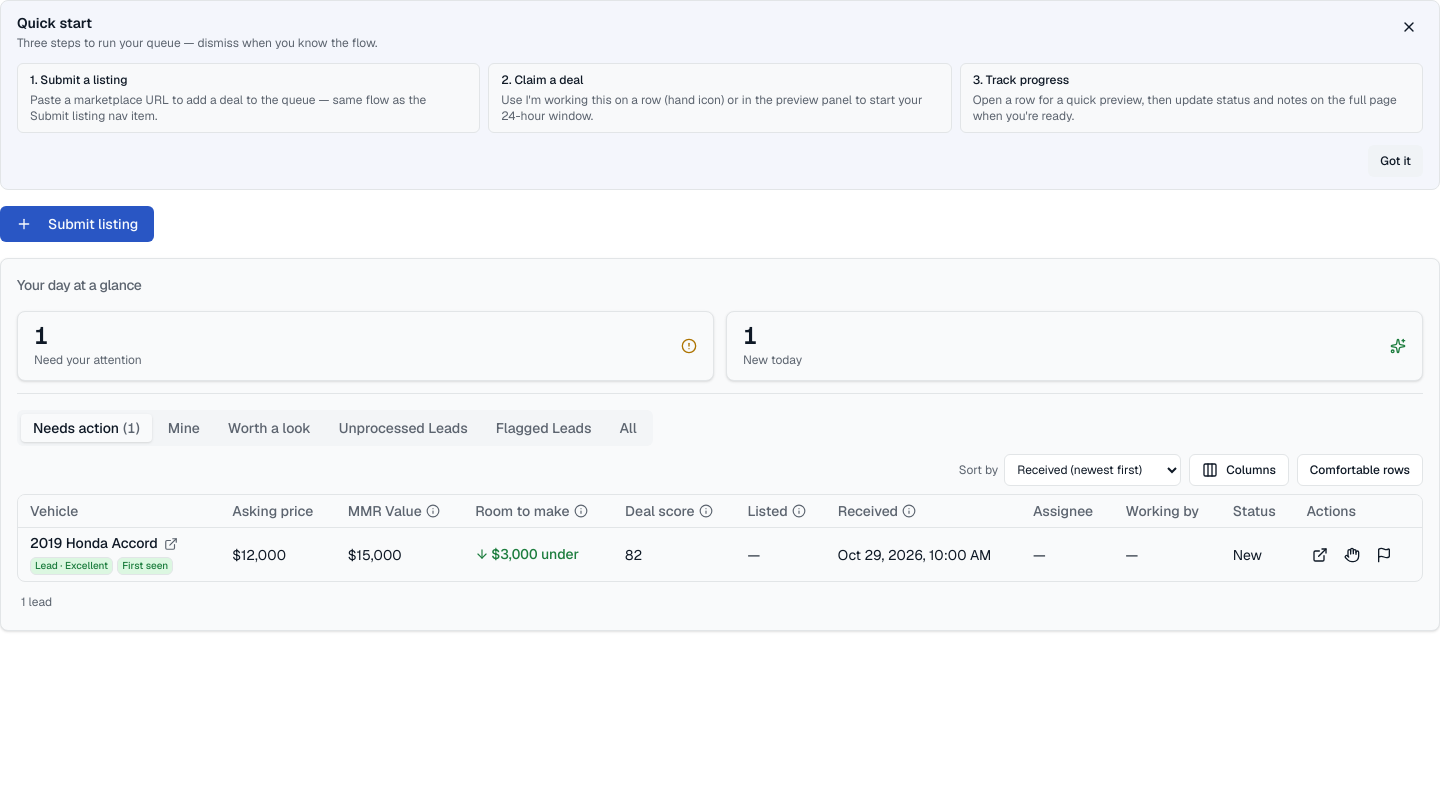
Test: OpportunitiesClientNew › removes a flagged lead from the queue without a full page refresh
Expected: the link "2019 Honda Accord" is shown, [30,534,158,553]
Click the button named "Flag bad lead": point(1384, 555) [1370,541,1398,569]
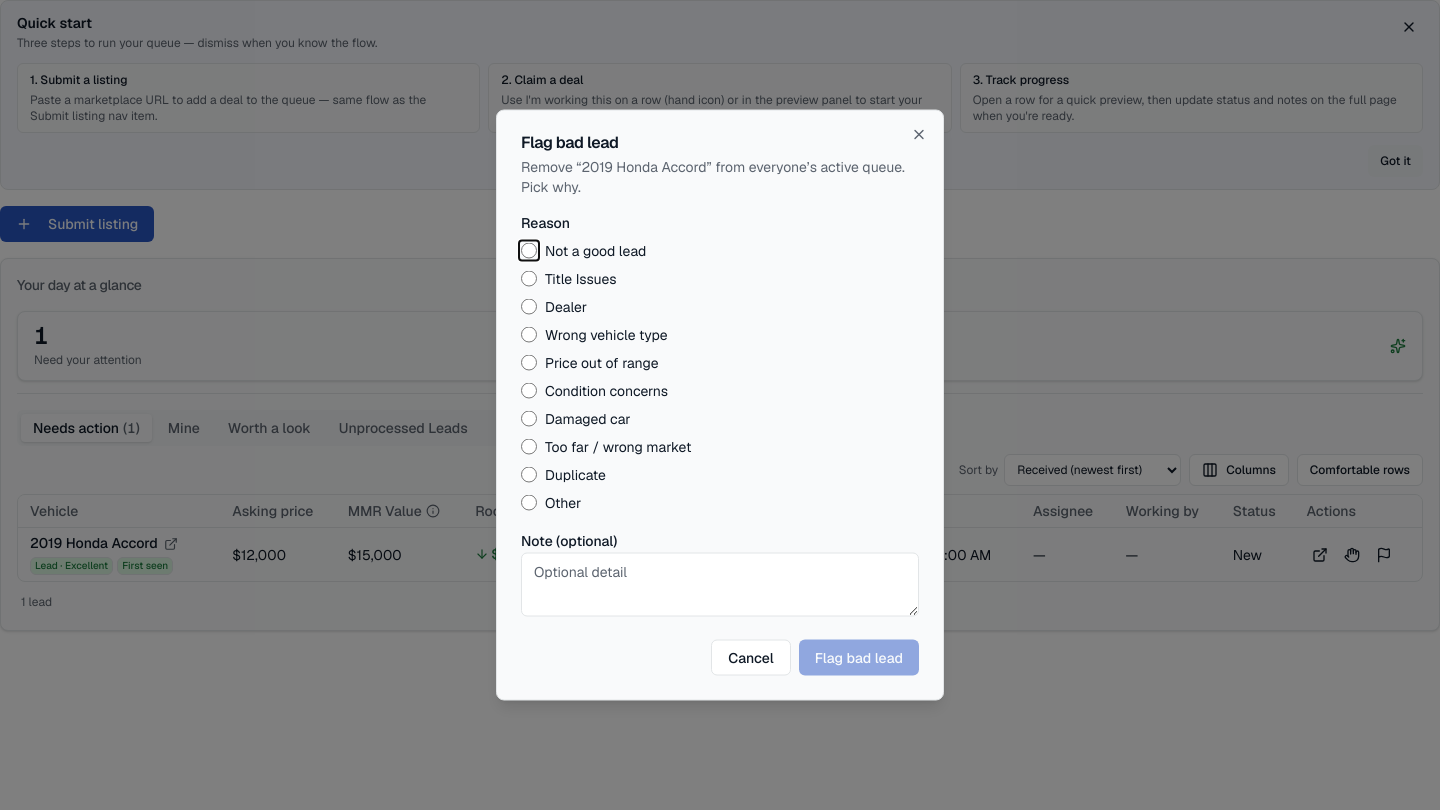
Click the radio button labelled "Dealer": point(529, 306) [521,298,537,314]
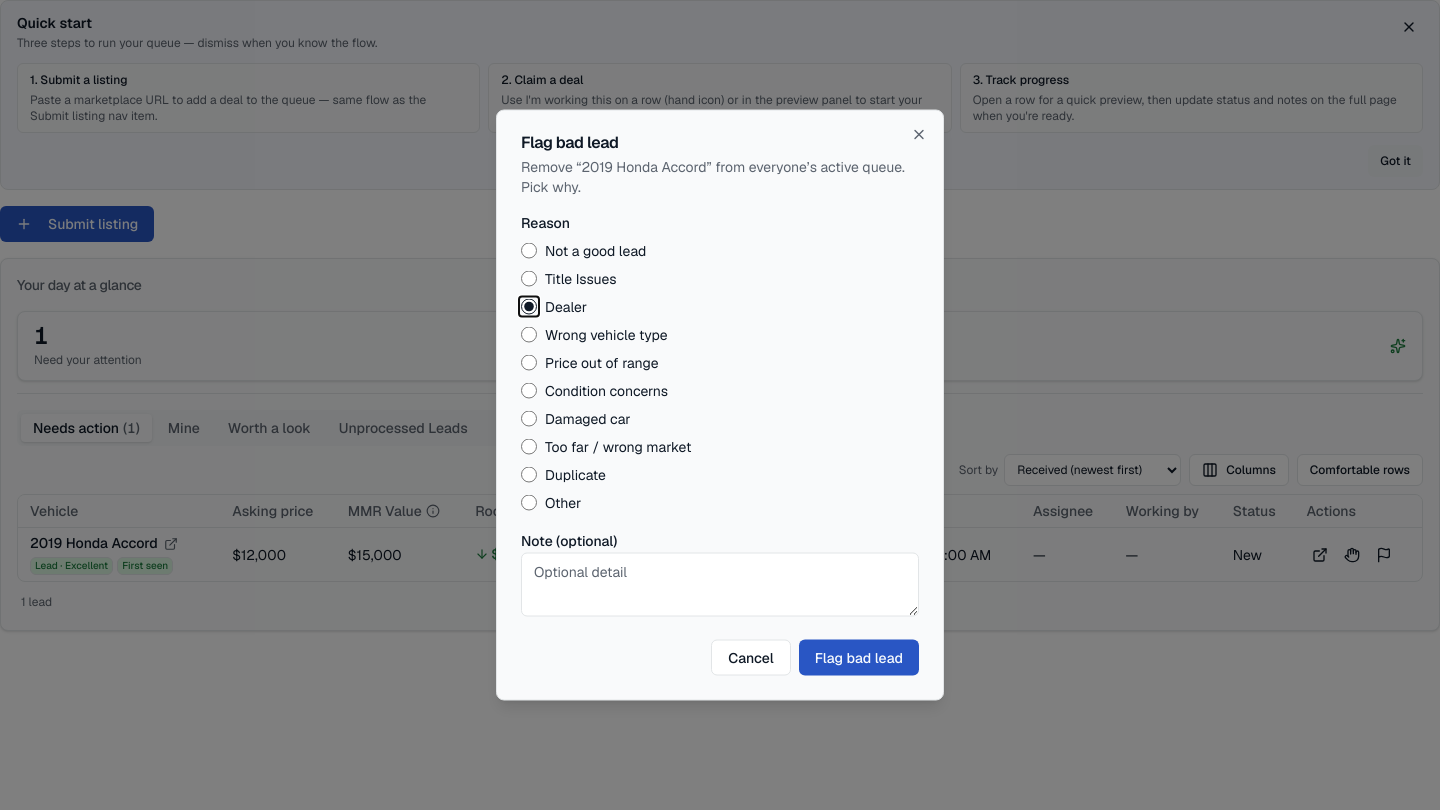
Click the button "Flag bad lead": point(859, 658) [799,640,919,676]
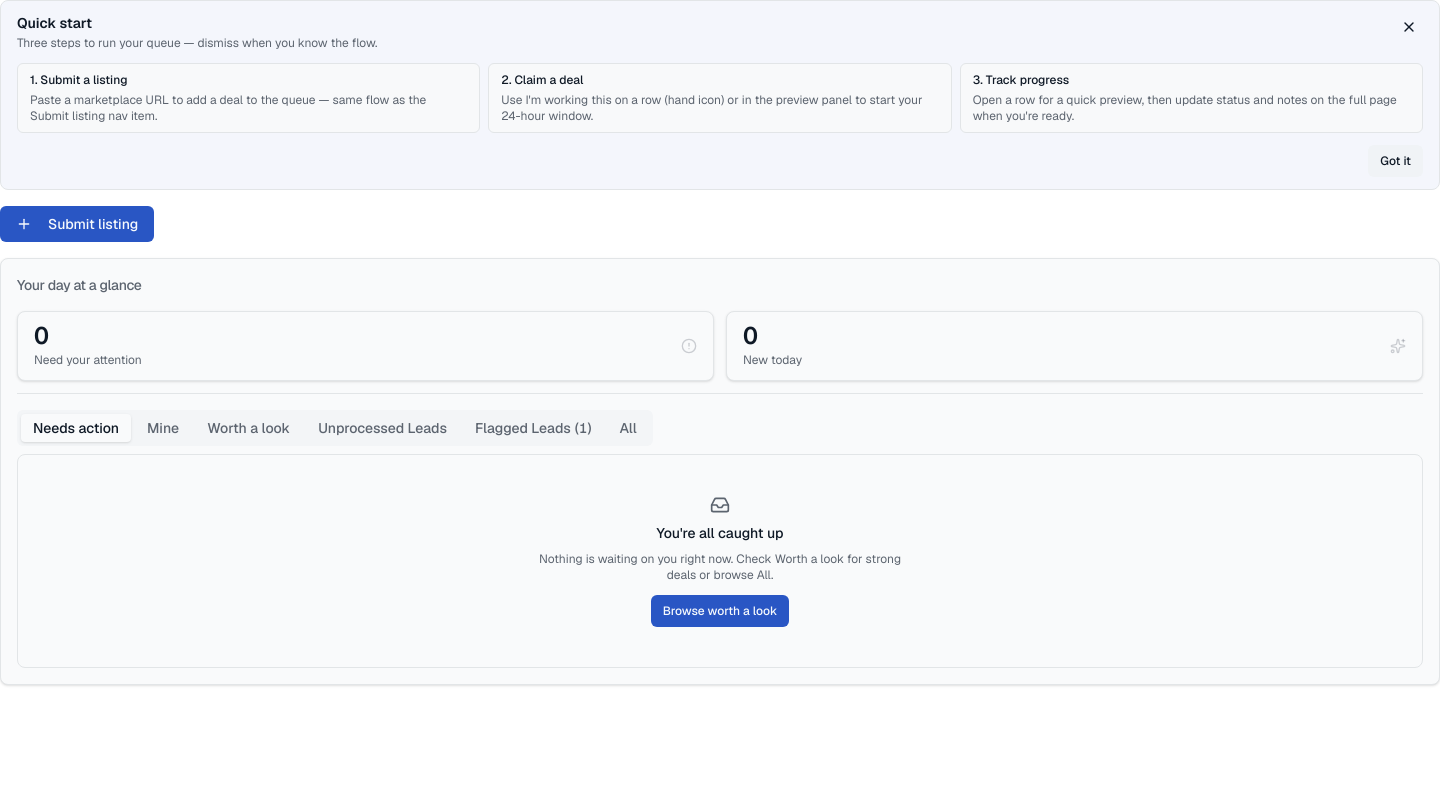
Now the link "2019 Honda Accord" is gone
